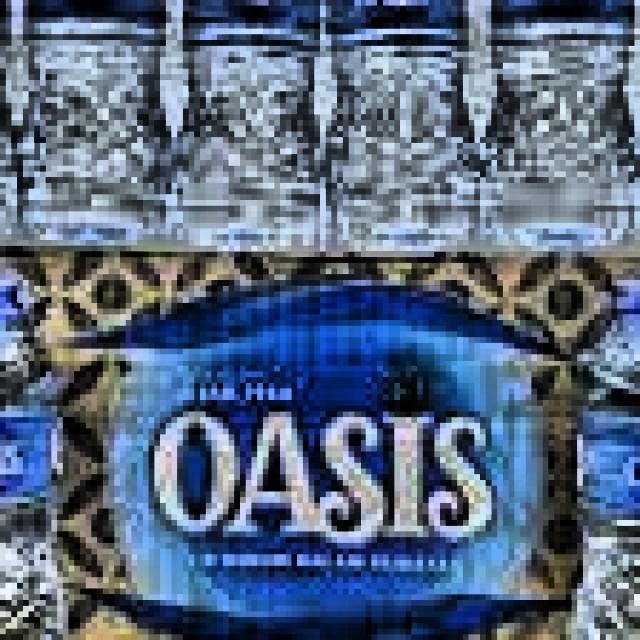plastic: (302, 0, 508, 234), (0, 268, 125, 640), (485, 0, 640, 251), (172, 0, 332, 229), (40, 0, 189, 223), (560, 251, 640, 640)
